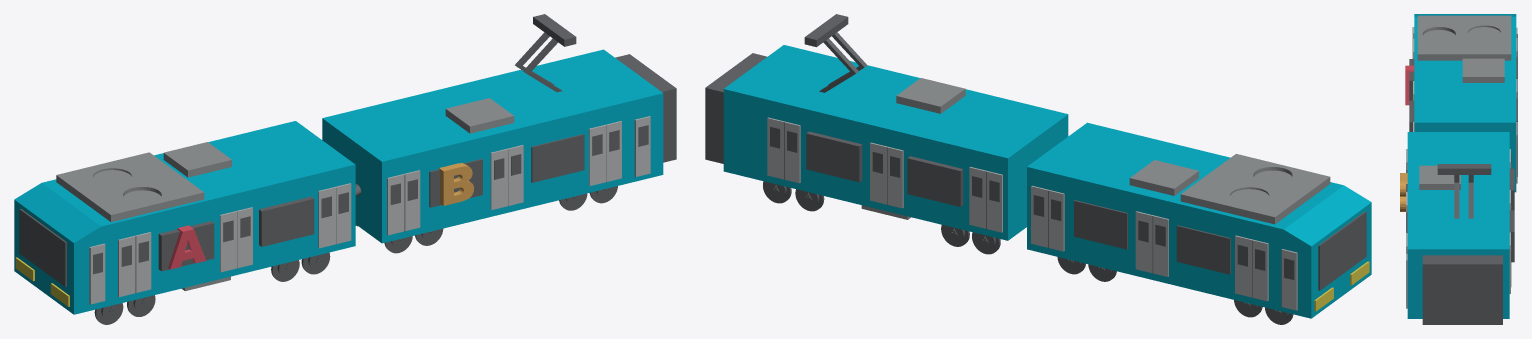
The model's file is Train.glb.
The picture shows the model from 3 angles, left to right: view 1: azimuth 30°, elevation 25°; view 2: azimuth 150°, elevation 25°; view 3: azimuth 270°, elevation 25°; orthographic projection. The views are drawn at different scales.
Parts seen in each view (by area): view 1: Mesh_Mesh_head_geo.001_lambert2SG.001; view 2: Mesh_Mesh_head_geo.001_lambert2SG.001; view 3: Mesh_Mesh_head_geo.001_lambert2SG.001.
Part boxes in pixels (bbox=[...]): Mesh_Mesh_head_geo.001_lambert2SG.001: bbox=[14, 14, 676, 324]; Mesh_Mesh_head_geo.001_lambert2SG.001: bbox=[705, 14, 1371, 324]; Mesh_Mesh_head_geo.001_lambert2SG.001: bbox=[1400, 14, 1517, 324].
Size of the model in its own units: 203 by 53.67 by 39.85.
